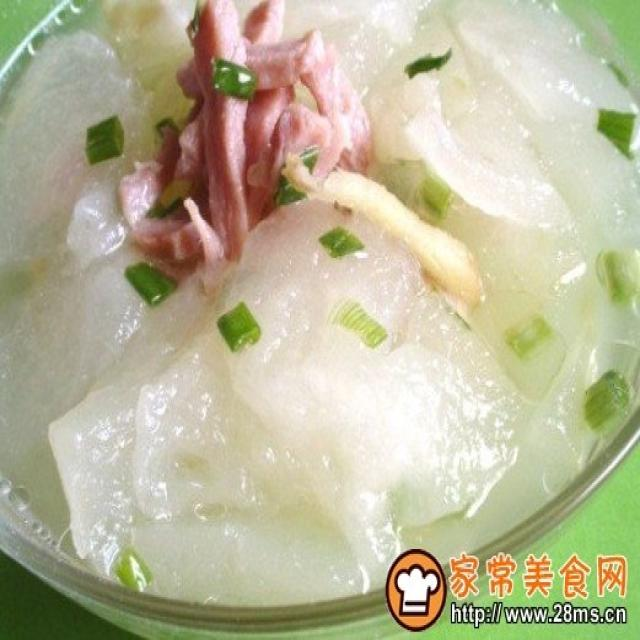汤锅炖物: (17, 13, 635, 619)
